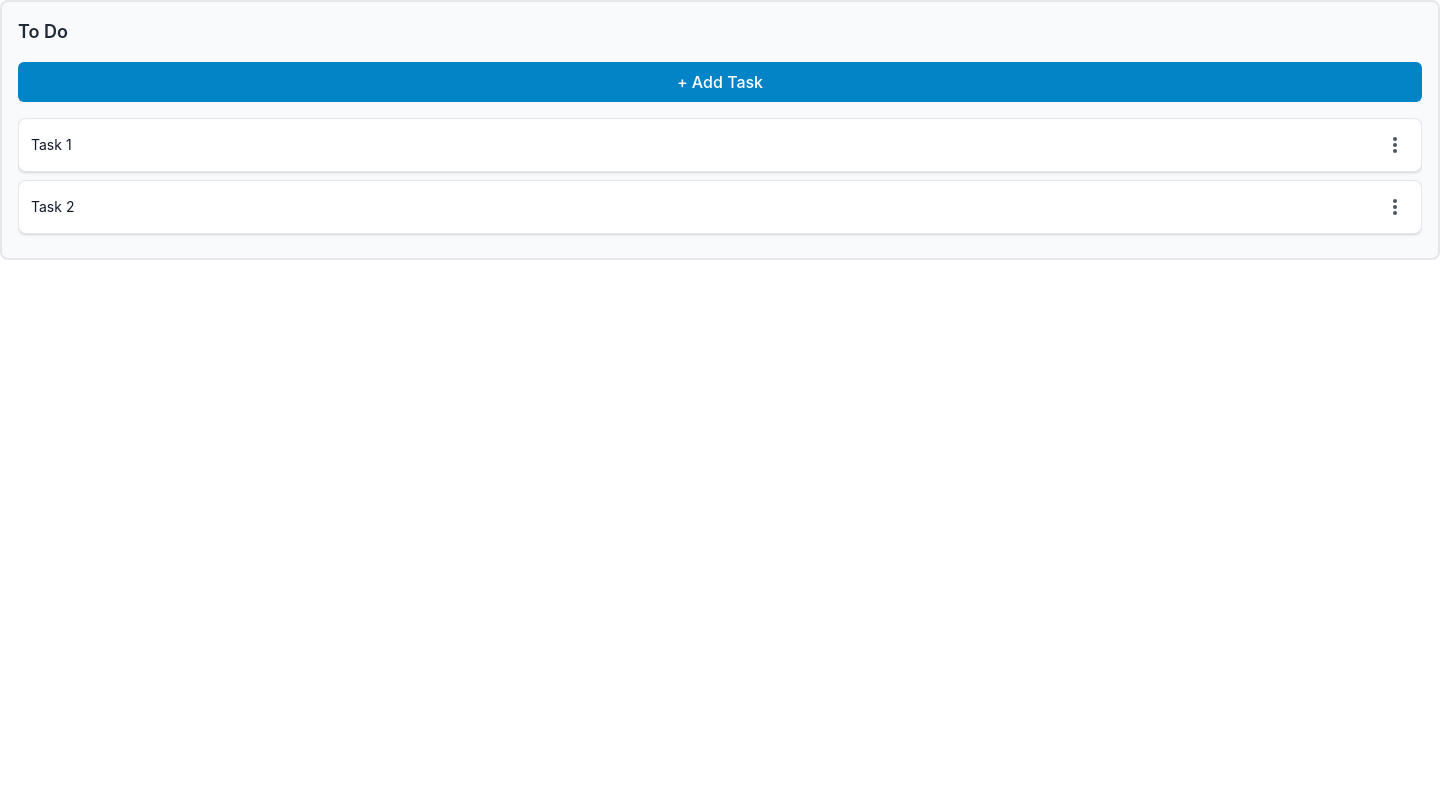
Column Component › should open Add Task dialog when Add Task button is clicked
Click the button with test id "add-task-button" at {"x": 720, "y": 82}, box [18,62,1422,102]
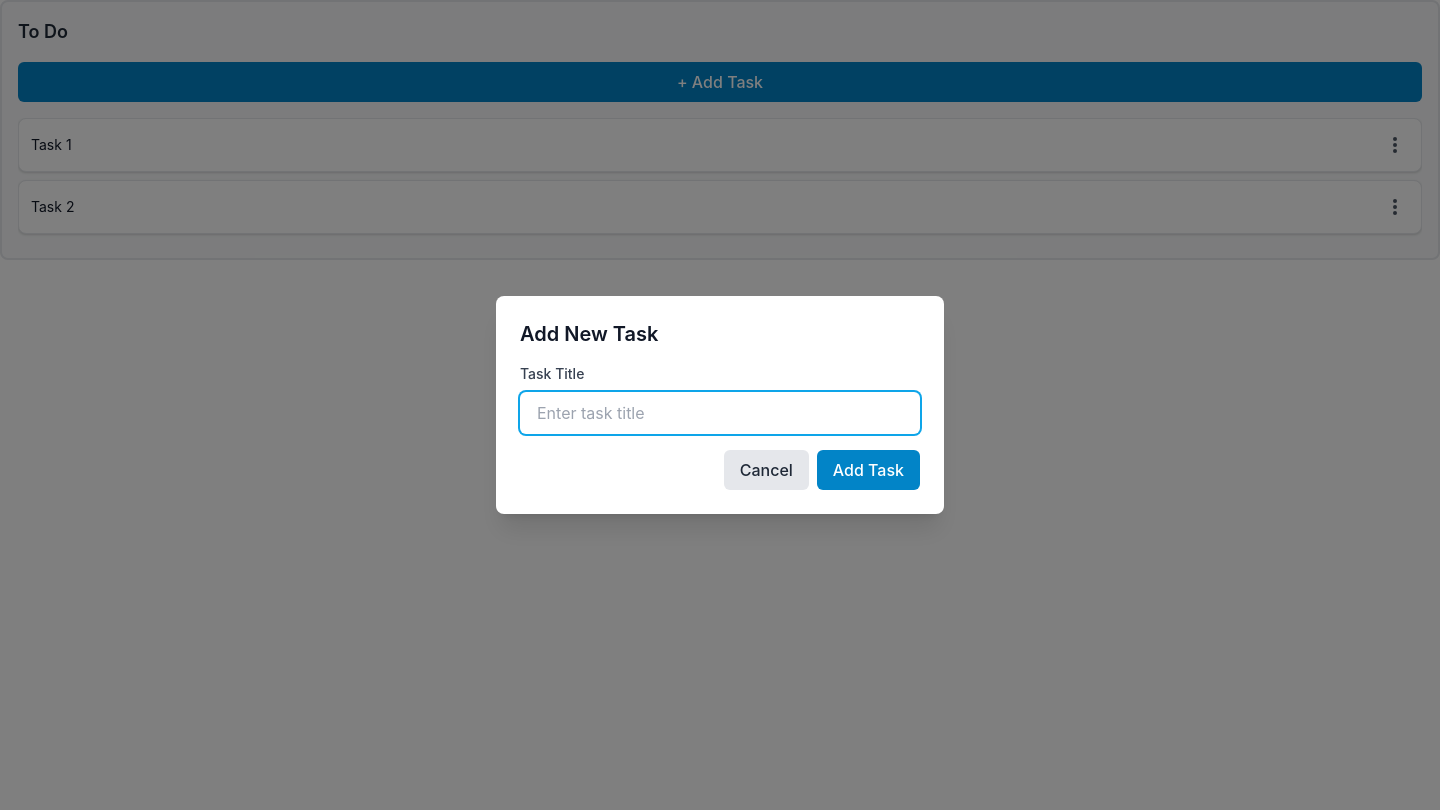
Now the field labelled "Task Title" is shown, box [520,392,920,434]
Now the heading "Add New Task" is shown, box [520,322,658,346]
